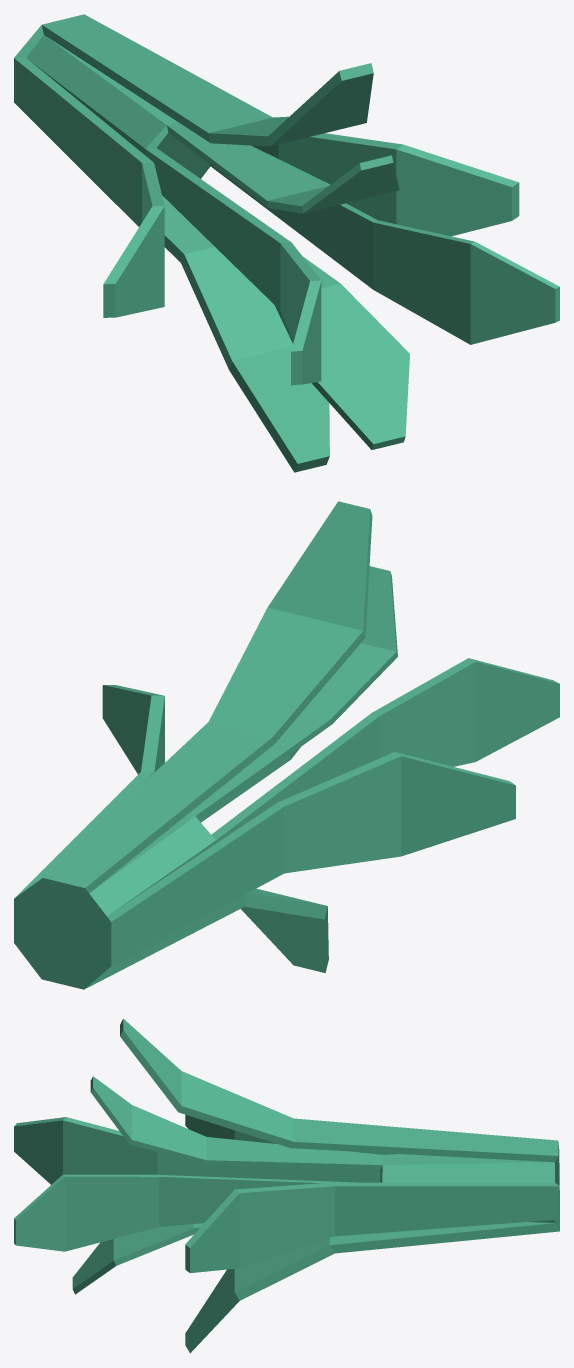
Rendered from GreenOnionLeaf.obj.
The picture shows the model from 3 angles, top to bottom: view 1: azimuth 30°, elevation 25°; view 2: azimuth 150°, elevation 25°; view 3: azimuth 270°, elevation 25°; orthographic projection. The views are drawn at different scales.
Visible parts, largest first — view 1: leek.002; view 2: leek.002; view 3: leek.002.
Part boxes in pixels (x1,y1,x2,y2): leek.002: (14,14,559,472); leek.002: (14,501,559,989); leek.002: (14,1019,559,1353).
Bounding box in the file's own units: 0.1432 × 0.1429 × 0.2188.
